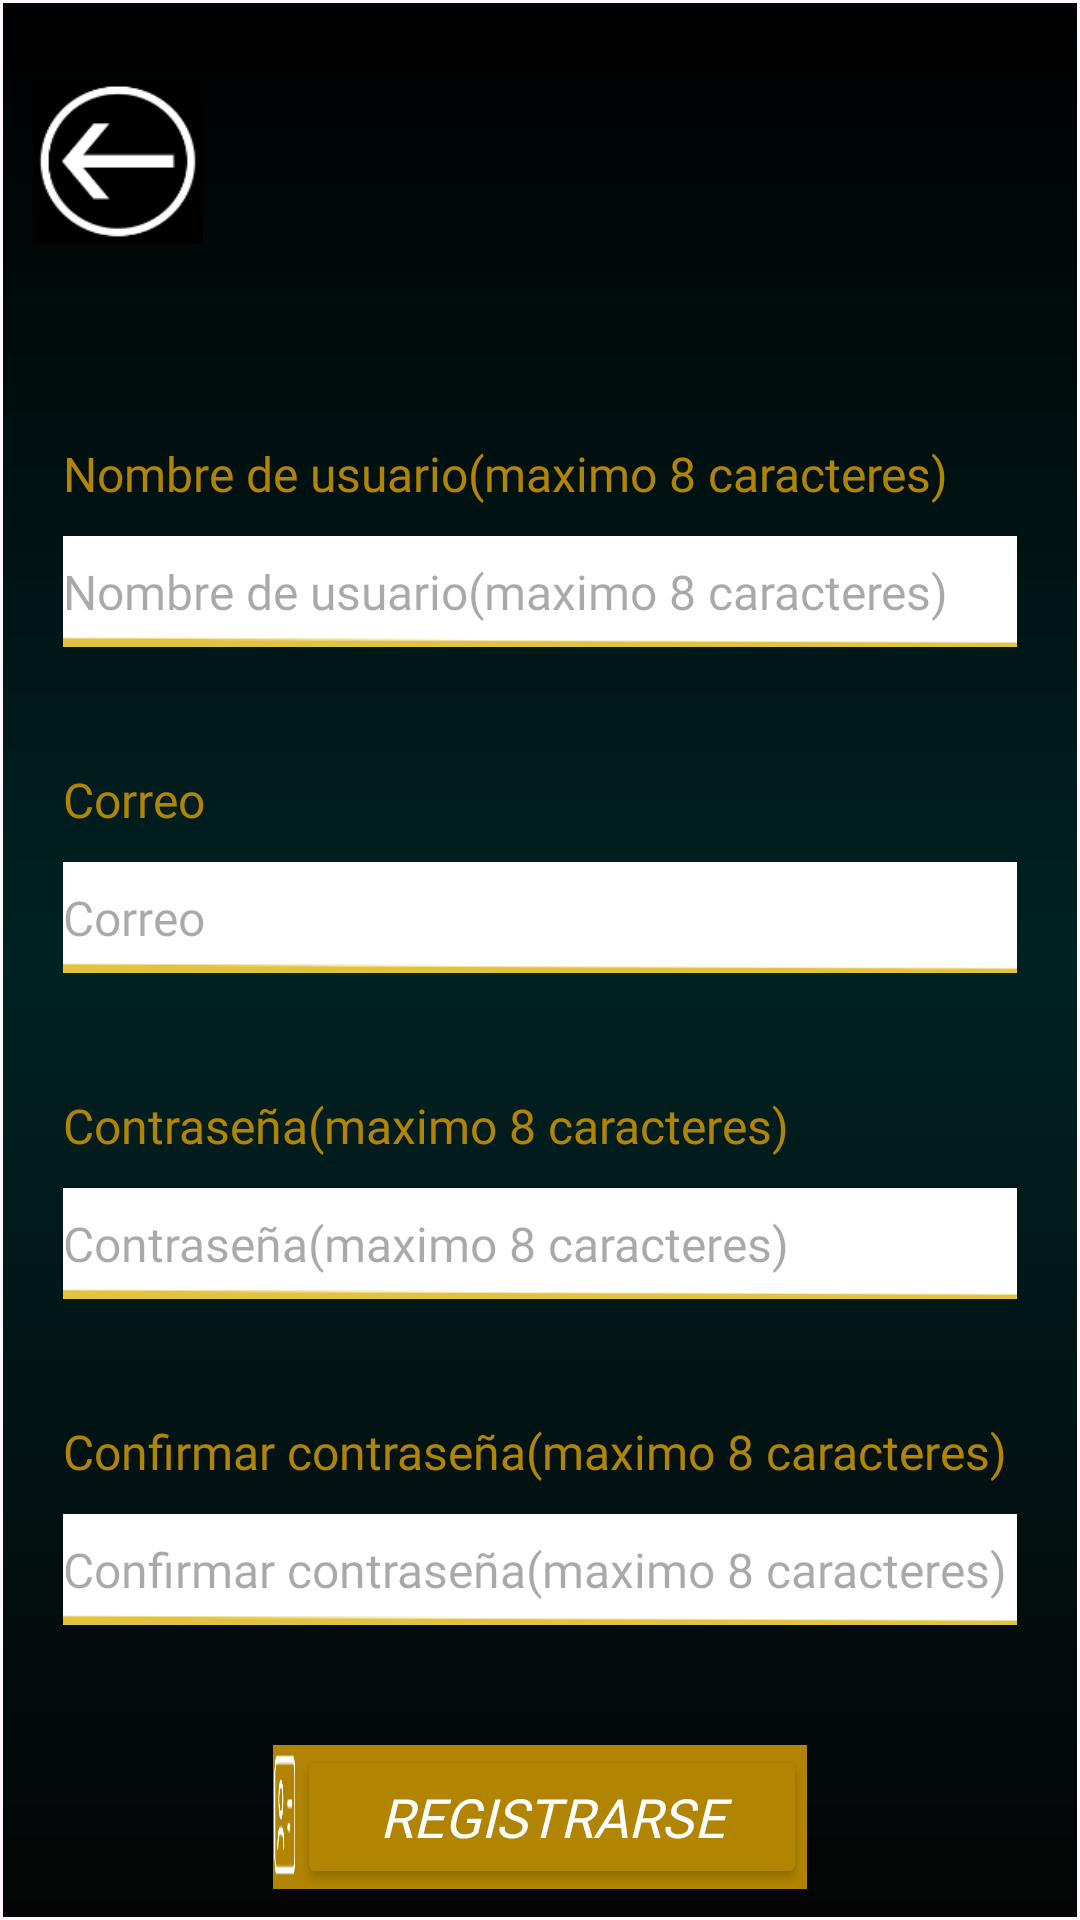

Where to tap for icons on this 1080x1920 app screen, as (x=x, y=y):
returnhome: (x=118, y=161)
